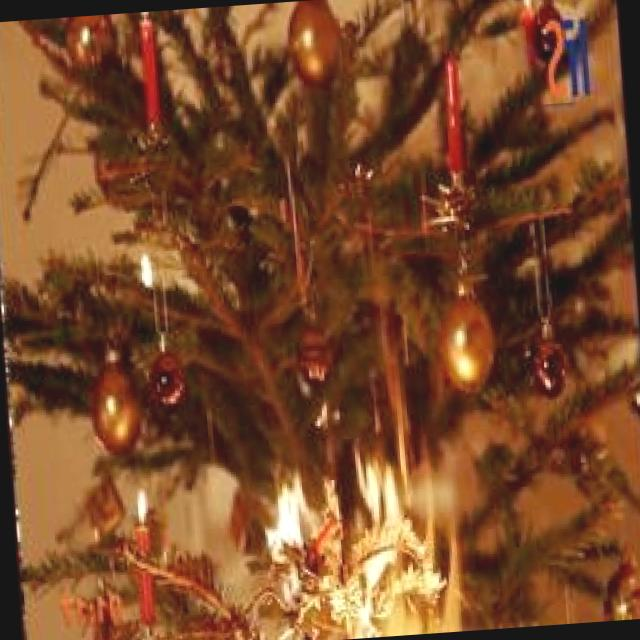fire: (228, 429, 478, 577)
